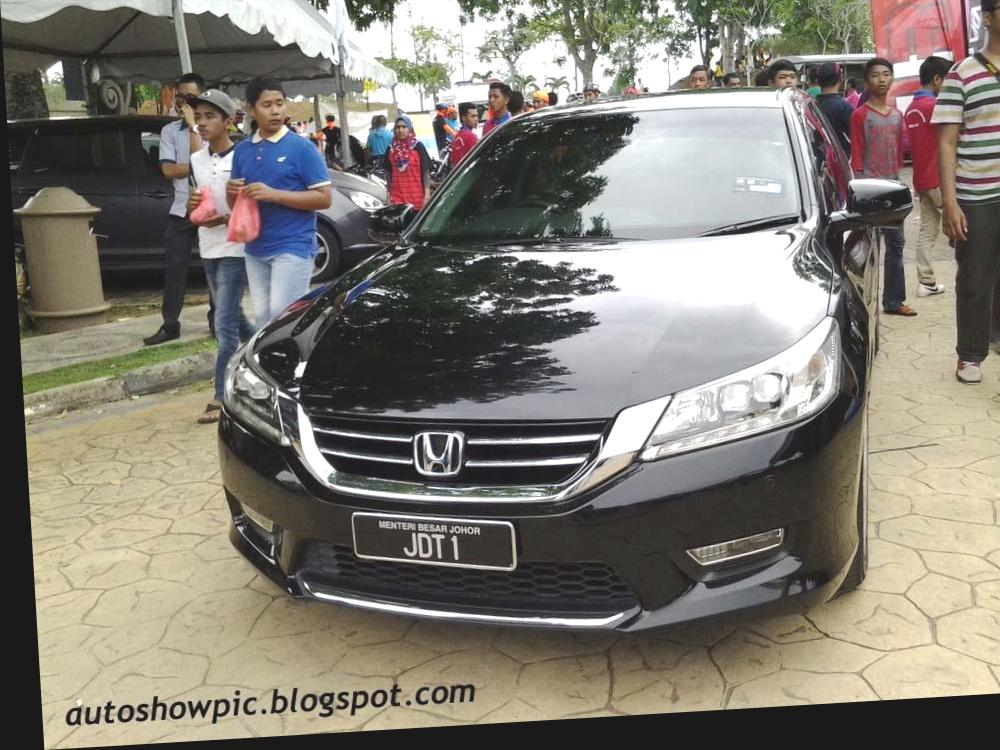License_Plate: (341, 492, 531, 587)
